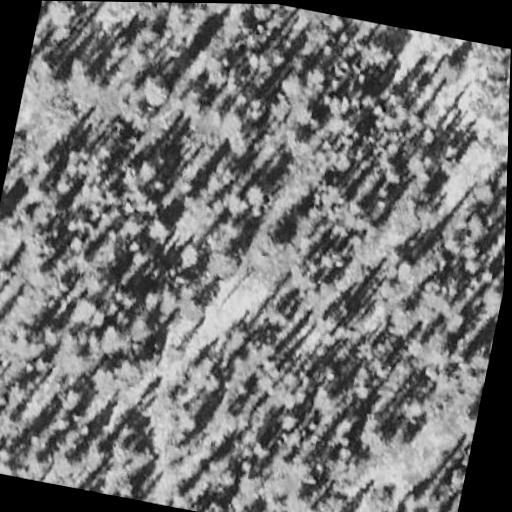tree-top: (106, 424, 162, 477), (23, 44, 73, 98), (6, 315, 52, 362), (207, 209, 253, 256), (351, 30, 400, 74), (250, 220, 294, 268), (61, 287, 108, 331), (128, 150, 173, 193), (401, 142, 444, 187), (356, 408, 397, 453), (66, 55, 108, 97), (135, 68, 177, 109), (85, 357, 125, 396), (175, 79, 212, 120), (238, 175, 277, 213), (174, 232, 212, 271), (202, 250, 246, 283), (53, 379, 92, 416), (124, 307, 161, 344), (360, 187, 395, 223), (39, 1, 82, 29), (141, 211, 175, 246), (395, 389, 429, 423), (159, 2, 196, 33), (214, 400, 248, 432), (436, 50, 469, 82), (480, 278, 504, 317), (380, 155, 411, 185), (472, 175, 503, 205), (271, 403, 303, 432), (458, 401, 479, 435), (199, 491, 232, 512), (247, 4, 276, 22), (493, 158, 508, 188), (496, 240, 505, 269)
